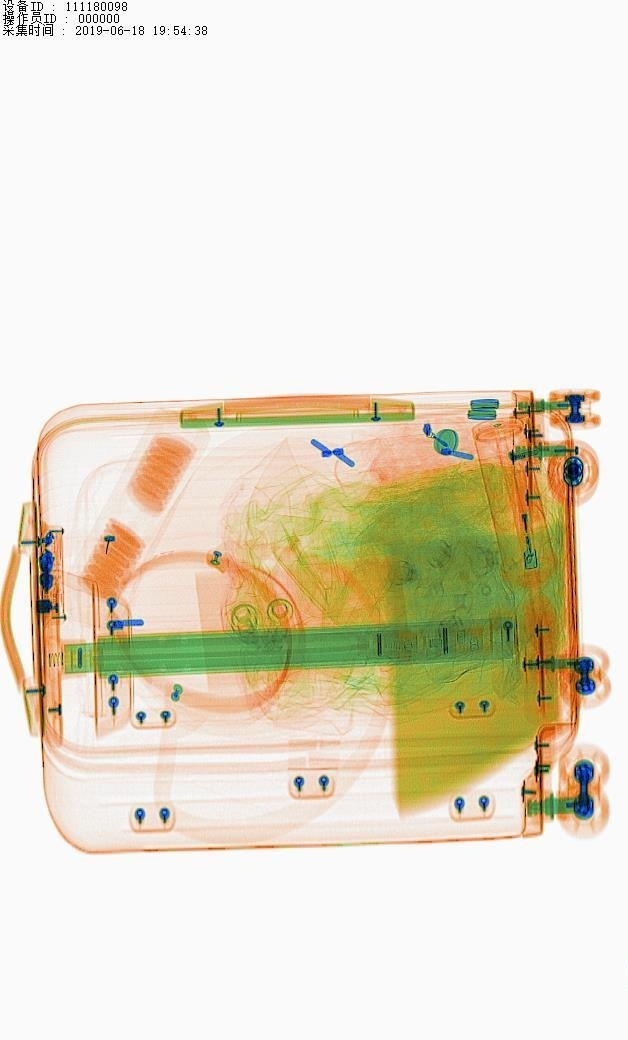NonmetallicFire: (501, 451, 553, 579)
